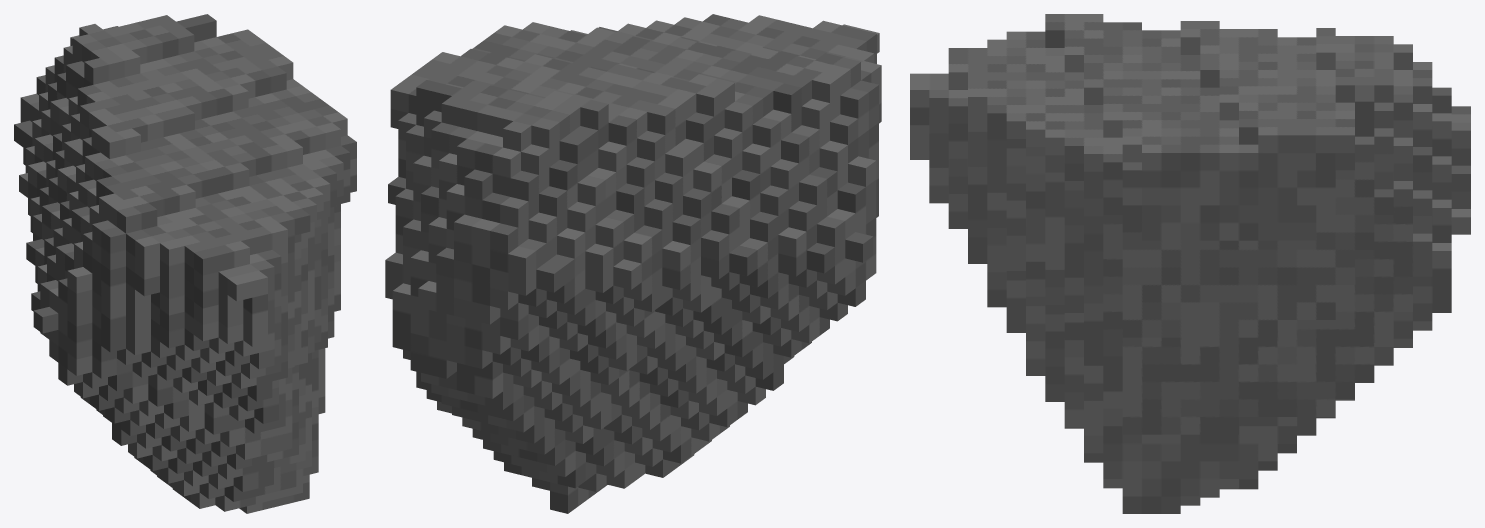
Rendered from Asteroid_A5.fbx.
The picture shows the model from 3 angles, left to right: view 1: azimuth 30°, elevation 25°; view 2: azimuth 150°, elevation 25°; view 3: azimuth 270°, elevation 25°; orthographic projection. The views are drawn at different scales.
Visible parts, largest first — view 1: T1-4; view 2: T1-4; view 3: T1-4.
Boxes of the visible parts, bbox=[...] form: T1-4: bbox=[14, 14, 356, 513]; T1-4: bbox=[385, 14, 881, 513]; T1-4: bbox=[910, 14, 1470, 513].
Bounding box in the file's own units: 200 × 240 × 290.
